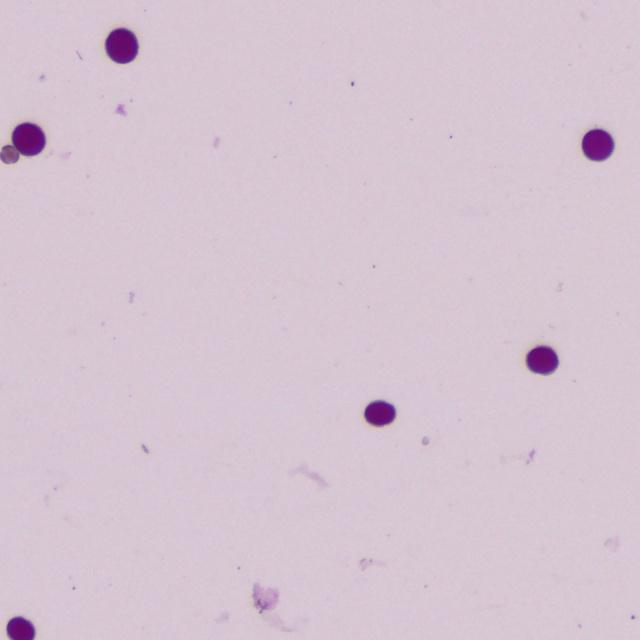viable: (106, 28, 138, 63), (12, 122, 45, 155), (582, 129, 613, 160), (527, 346, 557, 374), (365, 400, 395, 426), (6, 617, 34, 639)
